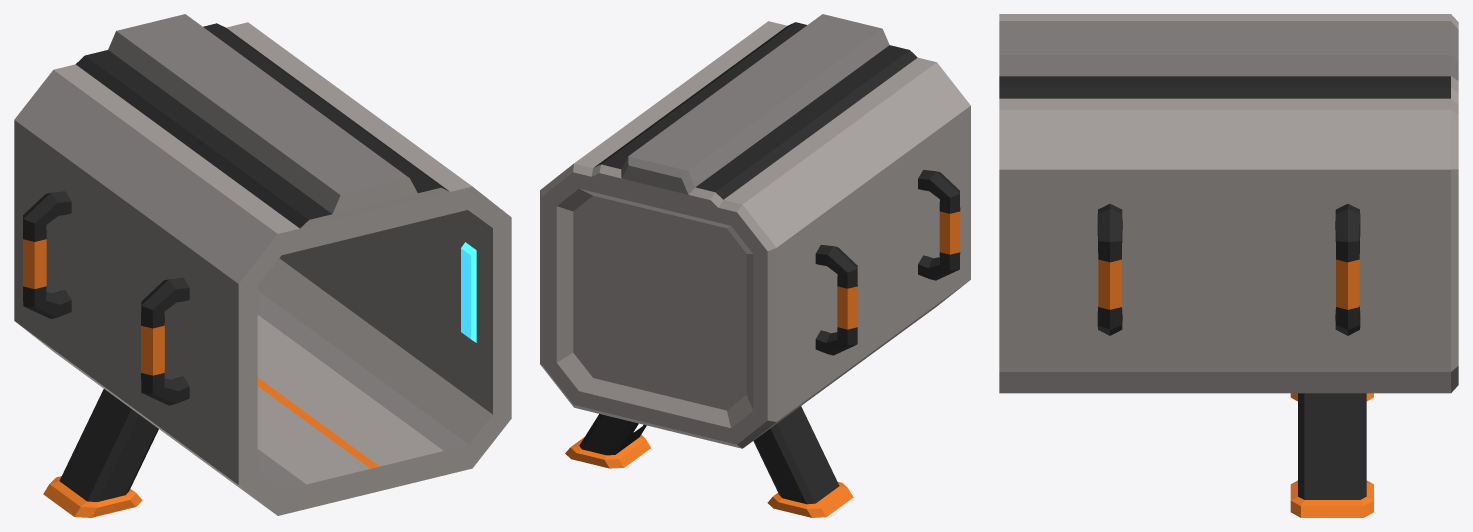
File: scifi-scifi-planet-base-hall-end.glb
3 renders of one model, left to right at view 1: azimuth 30°, elevation 25°; view 2: azimuth 150°, elevation 25°; view 3: azimuth 270°, elevation 25°, orthographic. The views are drawn at different scales.
Visible parts, largest first — view 1: scifi-planet-base-hall-end; view 2: scifi-planet-base-hall-end; view 3: scifi-planet-base-hall-end.
Boxes of the visible parts, bbox=[...] form: scifi-planet-base-hall-end: bbox=[14, 14, 511, 517]; scifi-planet-base-hall-end: bbox=[540, 14, 970, 517]; scifi-planet-base-hall-end: bbox=[999, 14, 1458, 517].
Size of the model in its own units: 3.63 by 3.9 by 4.
